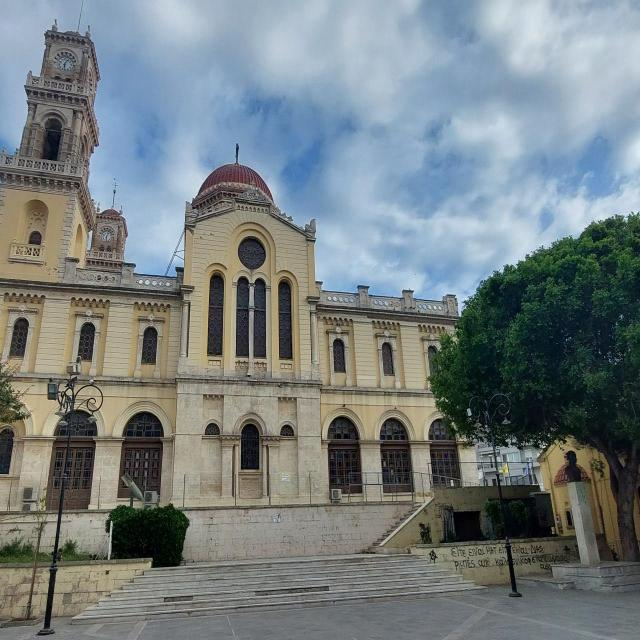Agios Minas: (1, 1, 481, 514)
